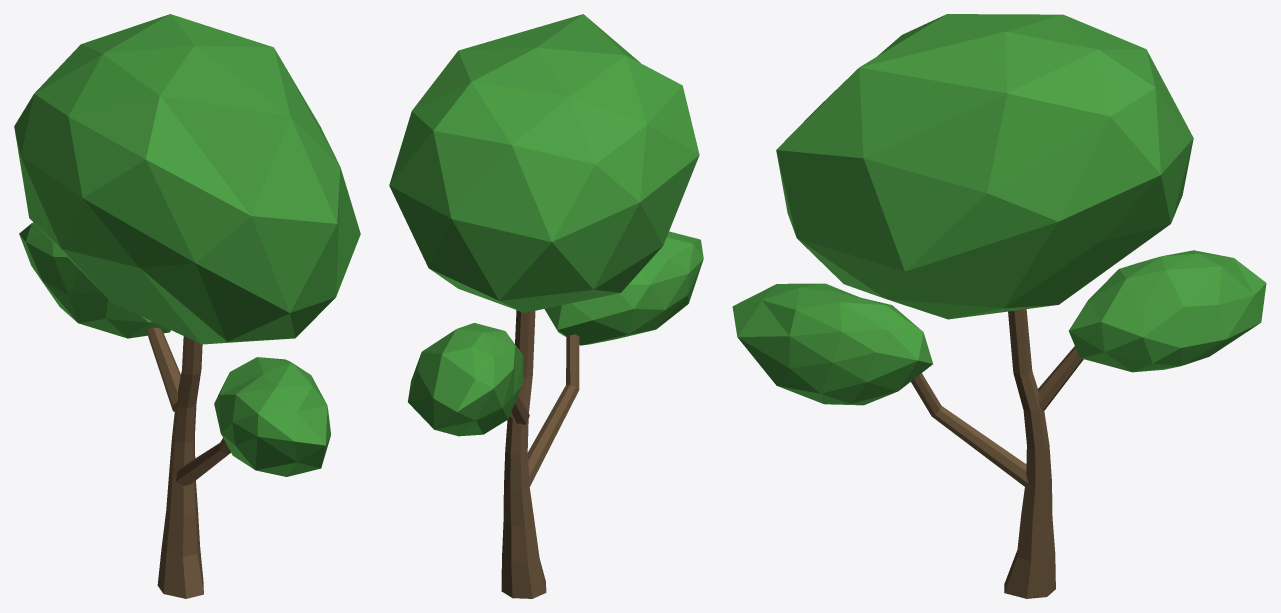
The model's file is deciduous_one.glb.
The picture shows the model from 3 angles, left to right: view 1: azimuth 30°, elevation 25°; view 2: azimuth 150°, elevation 25°; view 3: azimuth 270°, elevation 25°; orthographic projection. The views are drawn at different scales.
Parts seen in each view (by area): view 1: LeafLobe.001, LeafLobe.003, Trunk, LeafLobe.002, Branch.001, Branch.002; view 2: LeafLobe.001, LeafLobe.002, LeafLobe.003, Trunk, Branch.002; view 3: LeafLobe.001, LeafLobe.003, LeafLobe.002, Trunk, Branch.002, Branch.001.
Boxes of the visible parts, x1,y1,x2,y2 form: LeafLobe.001: (14,14,360,344); LeafLobe.003: (214,357,330,476); Trunk: (157,336,203,598); LeafLobe.002: (19,222,170,338); Branch.001: (146,327,180,411); Branch.002: (176,438,230,485); LeafLobe.001: (389,14,699,312); LeafLobe.002: (408,323,523,436); LeafLobe.003: (544,231,703,345); Trunk: (501,310,546,598); Branch.002: (527,334,579,486); LeafLobe.001: (776,14,1193,319); LeafLobe.003: (732,283,932,405); LeafLobe.002: (1069,250,1266,372); Trunk: (1004,309,1055,598); Branch.002: (911,373,1028,486); Branch.001: (1038,346,1083,411).
Size of the model in its own units: 8.51 by 17.35 by 15.06.
